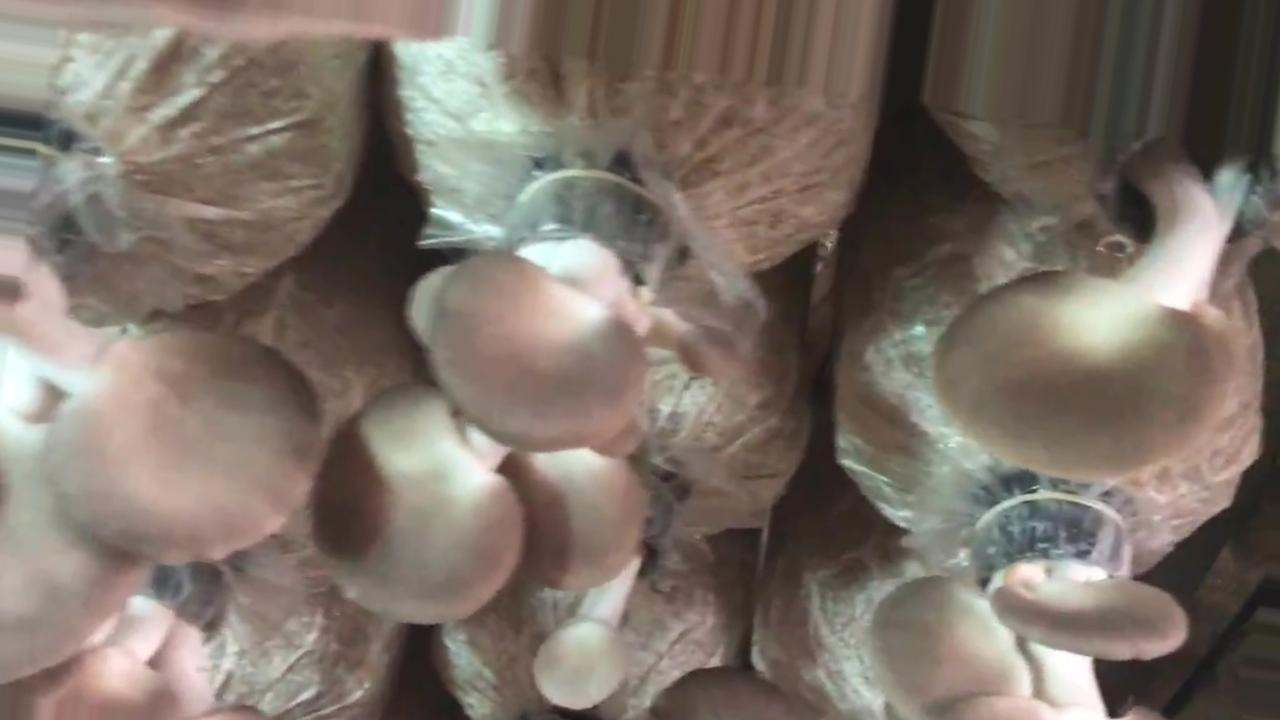nam: (320, 178, 744, 624), (1, 127, 320, 684), (942, 139, 1230, 481), (876, 492, 1185, 720), (534, 471, 685, 709)
